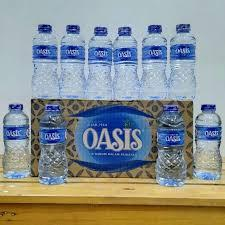BIODEGRADABLE: (154, 100, 194, 187), (37, 104, 78, 187), (166, 18, 202, 100), (27, 21, 62, 98), (109, 26, 146, 98), (3, 102, 32, 183), (198, 100, 225, 178), (142, 27, 170, 100), (86, 26, 115, 96), (64, 25, 90, 95)
